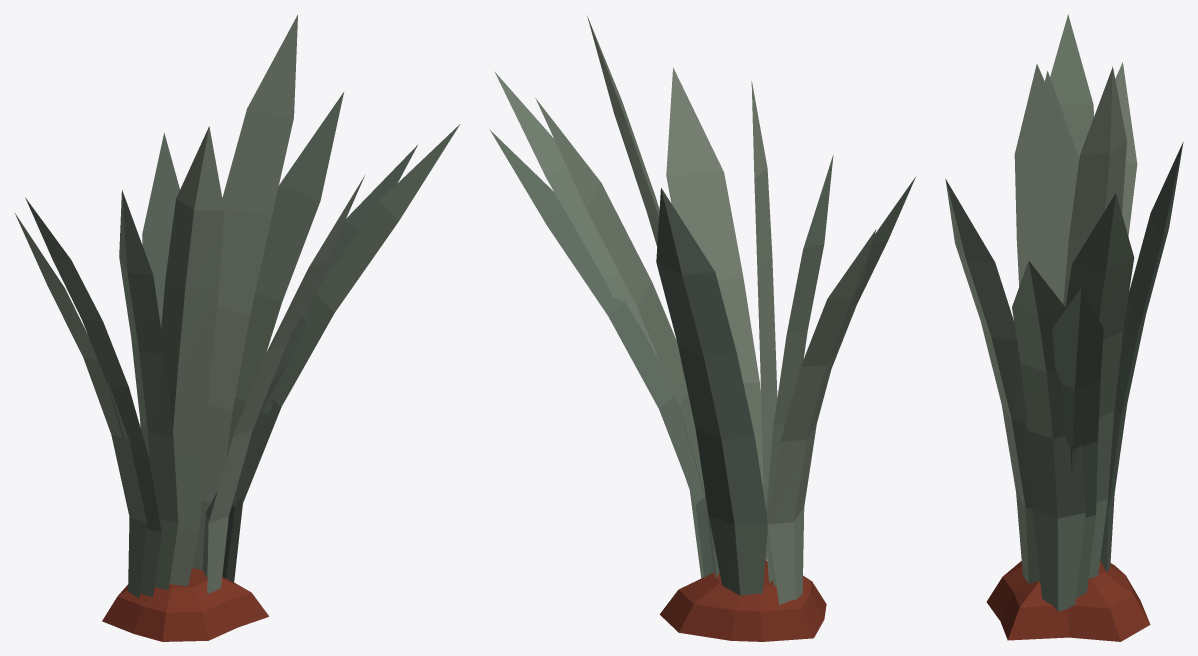
The model's file is seagrass-tuft-862cc5.glb.
3 renders of one model, left to right at view 1: azimuth 30°, elevation 25°; view 2: azimuth 150°, elevation 25°; view 3: azimuth 270°, elevation 25°, orthographic. The views are drawn at different scales.
Visible parts, largest first — view 1: seagrass-blades, seagrass-root-knot; view 2: seagrass-blades, seagrass-root-knot; view 3: seagrass-blades, seagrass-root-knot.
Boxes of the visible parts, box(x1,y1,x2,y2) form: seagrass-blades: box(14, 15, 460, 598); seagrass-root-knot: box(102, 568, 268, 641); seagrass-blades: box(490, 16, 915, 604); seagrass-root-knot: box(659, 561, 826, 641); seagrass-blades: box(945, 14, 1183, 611); seagrass-root-knot: box(986, 561, 1150, 641).
Size of the model in its own units: 0.3954 by 0.4962 by 0.1741.
